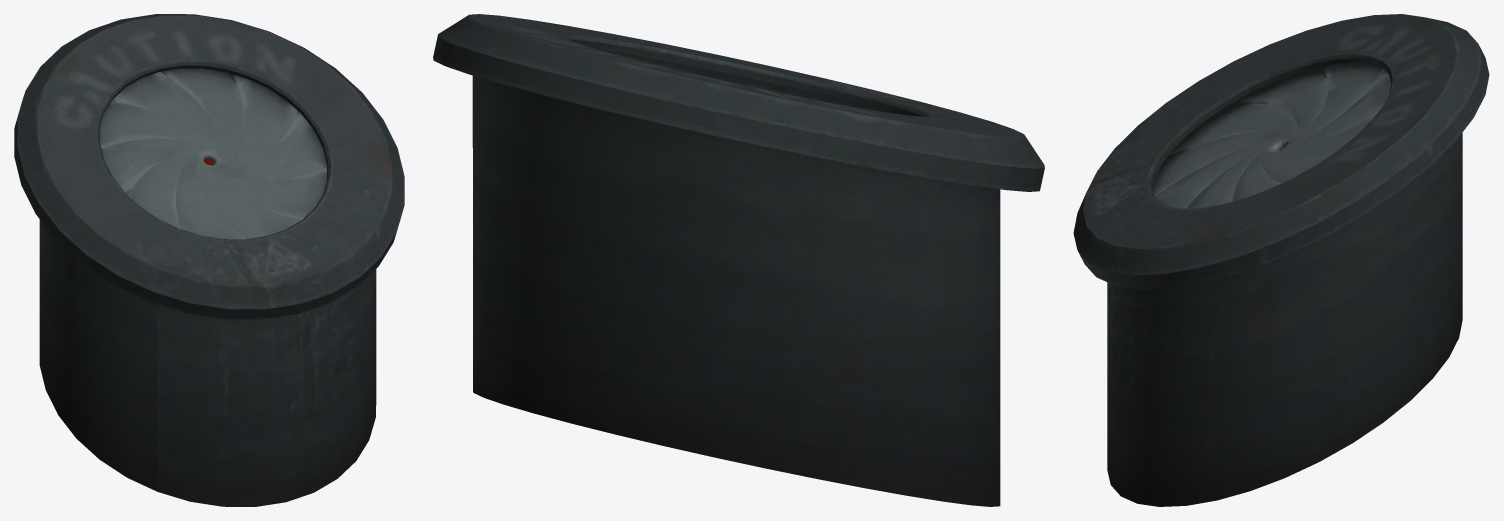
The model's file is glados_aperturedoor.obj.
3 views of the same model, side by side, from view 1: azimuth 30°, elevation 25°; view 2: azimuth 150°, elevation 25°; view 3: azimuth 270°, elevation 25° (orthographic). The views are drawn at different scales.
Visible parts, largest first — view 1: g0; view 2: g0; view 3: g0.
Boxes of the visible parts, box(x1,y1,x2,y2) form: g0: box(14, 14, 404, 506); g0: box(433, 14, 1044, 506); g0: box(1073, 14, 1489, 506).
Bounding box in the file's own units: 204 × 208 × 188.
1 material, 1 textured.
